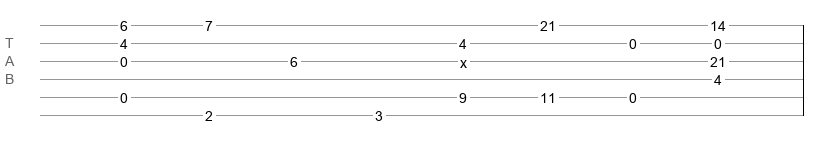0: (120, 54, 128, 64), (120, 90, 128, 100), (629, 90, 637, 100), (629, 36, 637, 46), (714, 36, 722, 46)
11: (540, 90, 556, 100)
14: (710, 18, 726, 28)
2: (205, 108, 213, 118)
21: (540, 18, 556, 28), (710, 54, 726, 64)
3: (375, 108, 383, 118)
4: (120, 36, 128, 46), (459, 36, 467, 46), (714, 72, 722, 82)
6: (120, 18, 128, 28), (290, 54, 298, 64)
7: (205, 18, 213, 28)
9: (459, 90, 467, 100)
x: (460, 55, 467, 63)
